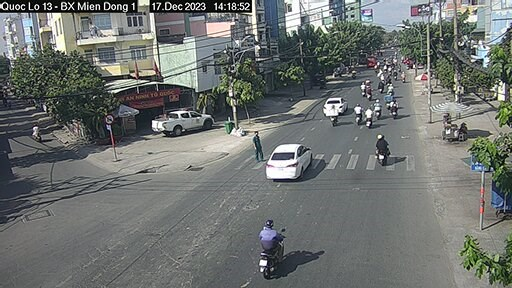car: (150, 111, 214, 135), (269, 145, 310, 182)
motorbike: (254, 218, 291, 279), (371, 136, 396, 168), (317, 98, 352, 117), (353, 105, 365, 127), (328, 106, 340, 127), (388, 101, 400, 118), (366, 106, 374, 128), (375, 100, 384, 117)
